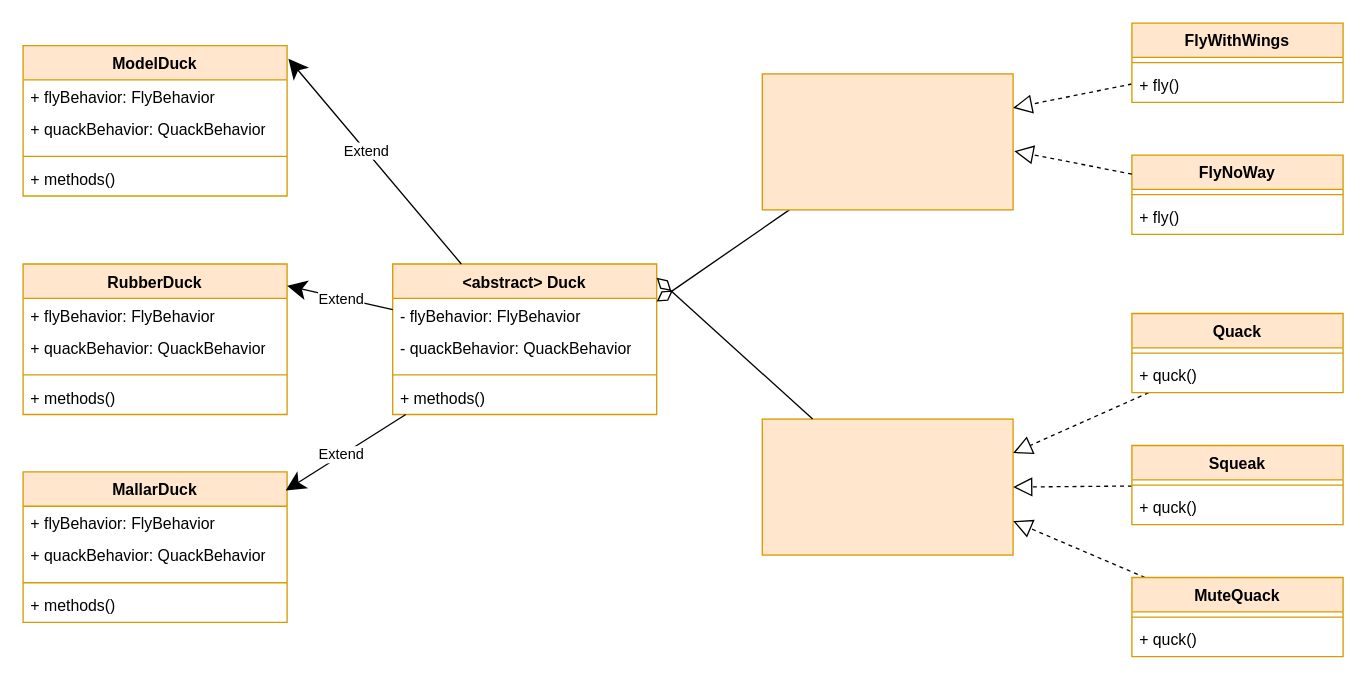
The diagram is 1366 pixels wide and 684 high, and some of its shapes have lost their labels. Here are the shapes that lost their labels. From the top down, the centre of each, then its label:
At point (887, 141): "<<Interface>> FlyBehavior + fly()".
At point (887, 486): "<<Interface>> QuackBehavior + quck()".
